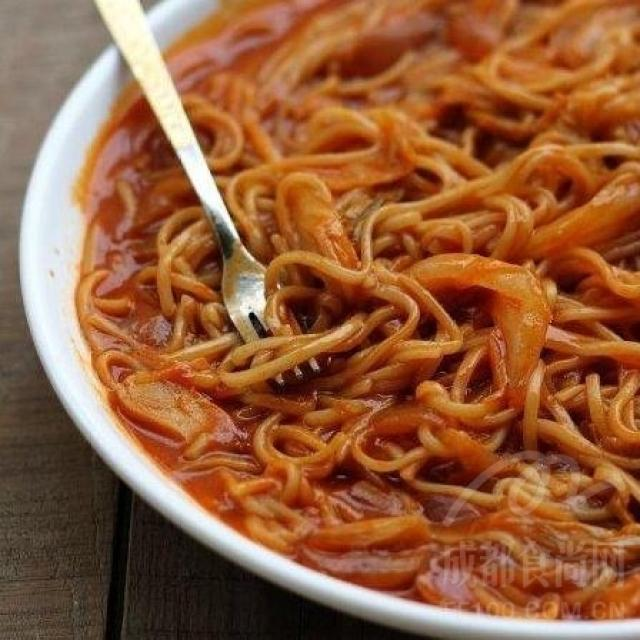面条主食: (63, 10, 637, 594)
